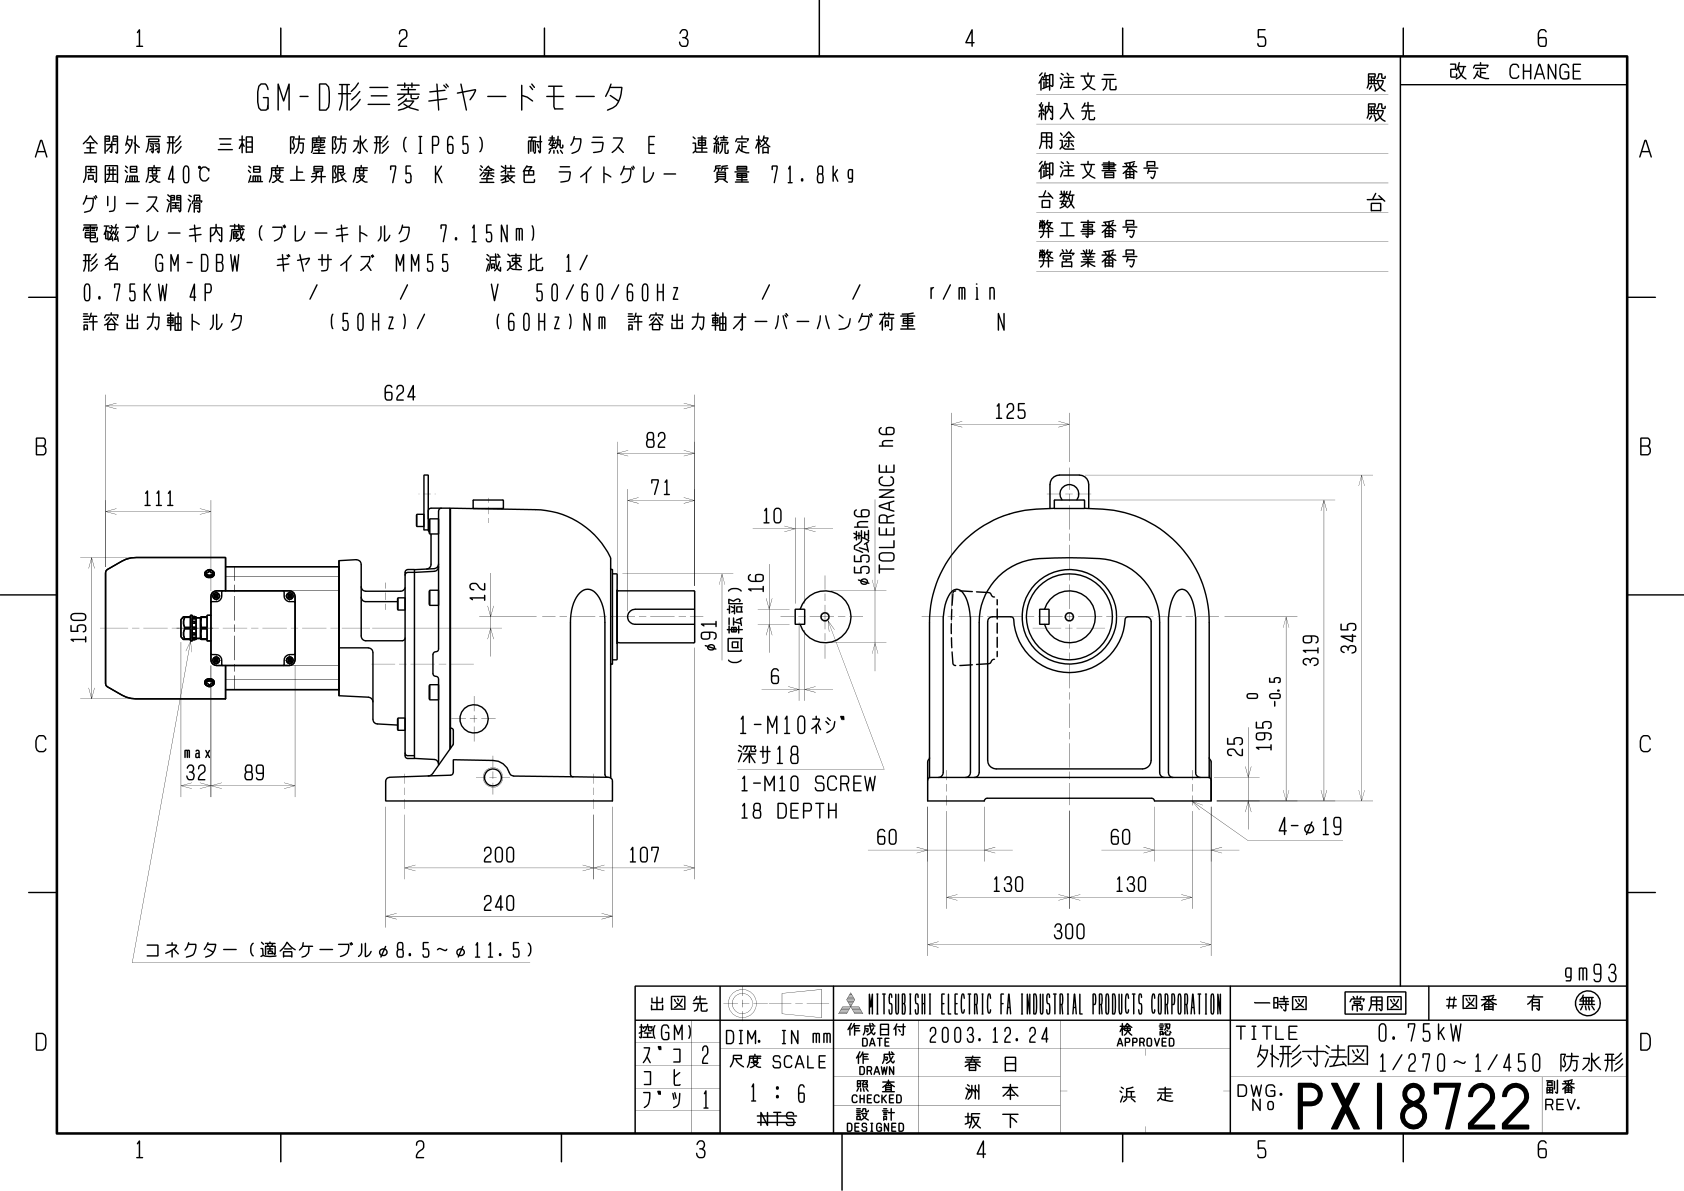GM_D_IP65_三相_脚: (61, 336, 1383, 963)
